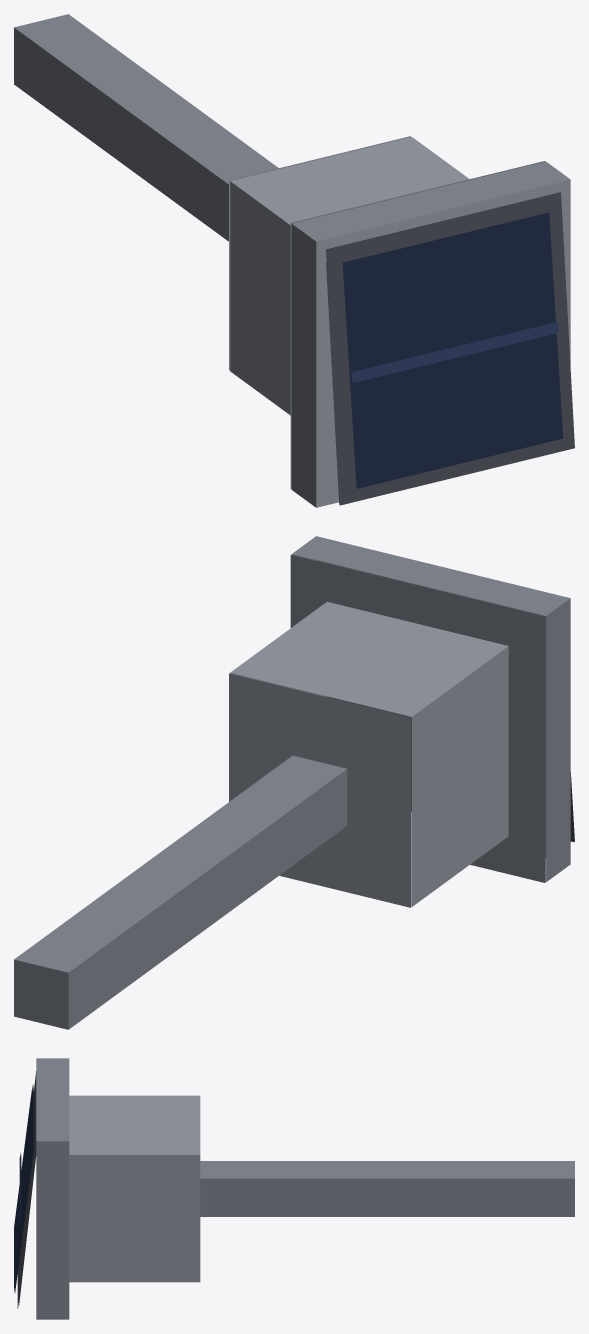
File: lamp_ground_garden_off_S.obj
3 views of the same model, one above another, from view 1: azimuth 30°, elevation 25°; view 2: azimuth 150°, elevation 25°; view 3: azimuth 270°, elevation 25° (orthographic). The views are drawn at different scales.
Parts seen in each view (by area): view 1: lamp_ground_garden_off_S; view 2: lamp_ground_garden_off_S; view 3: lamp_ground_garden_off_S.
Boxes of the visible parts, box(x1,y1,x2,y2) form: lamp_ground_garden_off_S: box(14, 14, 574, 507); lamp_ground_garden_off_S: box(14, 536, 574, 1029); lamp_ground_garden_off_S: box(14, 1058, 574, 1319).
Size of the model in its own units: 0.21 by 0.21 by 0.599.
Materials: 1 (1 with a texture image).
